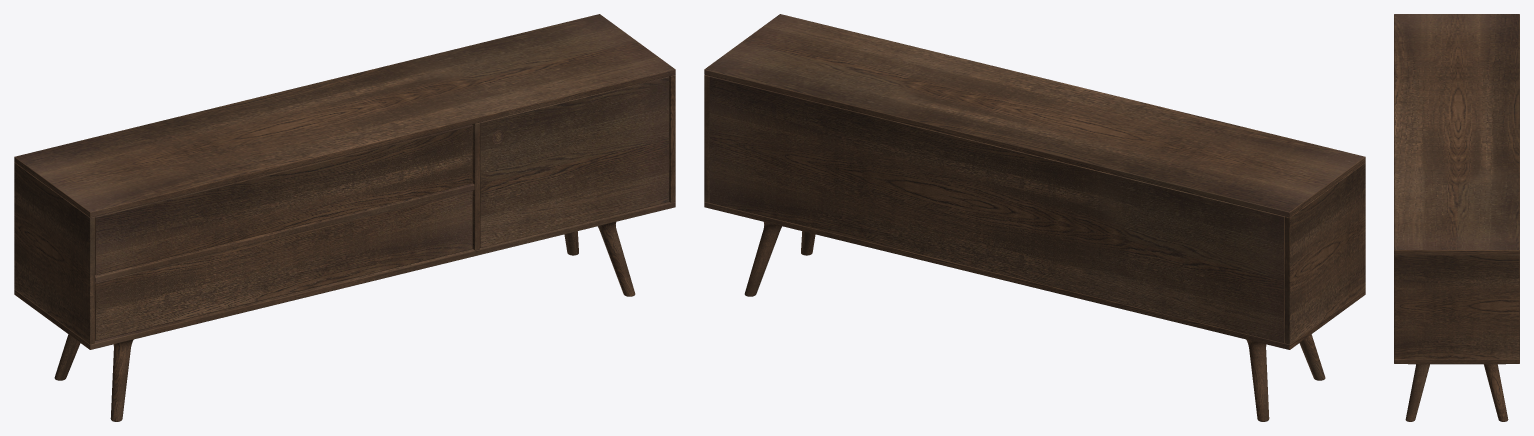
The model's file is zio-buffet-by-moooi.fbx.
3 views of the same model, side by side, from view 1: azimuth 30°, elevation 25°; view 2: azimuth 150°, elevation 25°; view 3: azimuth 270°, elevation 25° (orthographic). The views are drawn at different scales.
Parts seen in each view (by area): view 1: Zio buffet_base; view 2: Zio buffet_base; view 3: Zio buffet_base.
Boxes of the visible parts, box(x1,y1,x2,y2) form: Zio buffet_base: box(14, 14, 675, 421); Zio buffet_base: box(704, 14, 1365, 421); Zio buffet_base: box(1394, 14, 1519, 421).
Size of the model in its own units: 200 by 72.91 by 45.
Materials: 1 (1 with a texture image).
